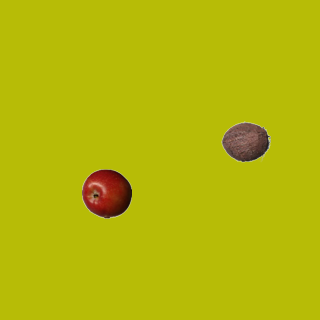Apple Braeburn: (81, 168, 131, 218)
Cocos: (220, 116, 270, 166)
